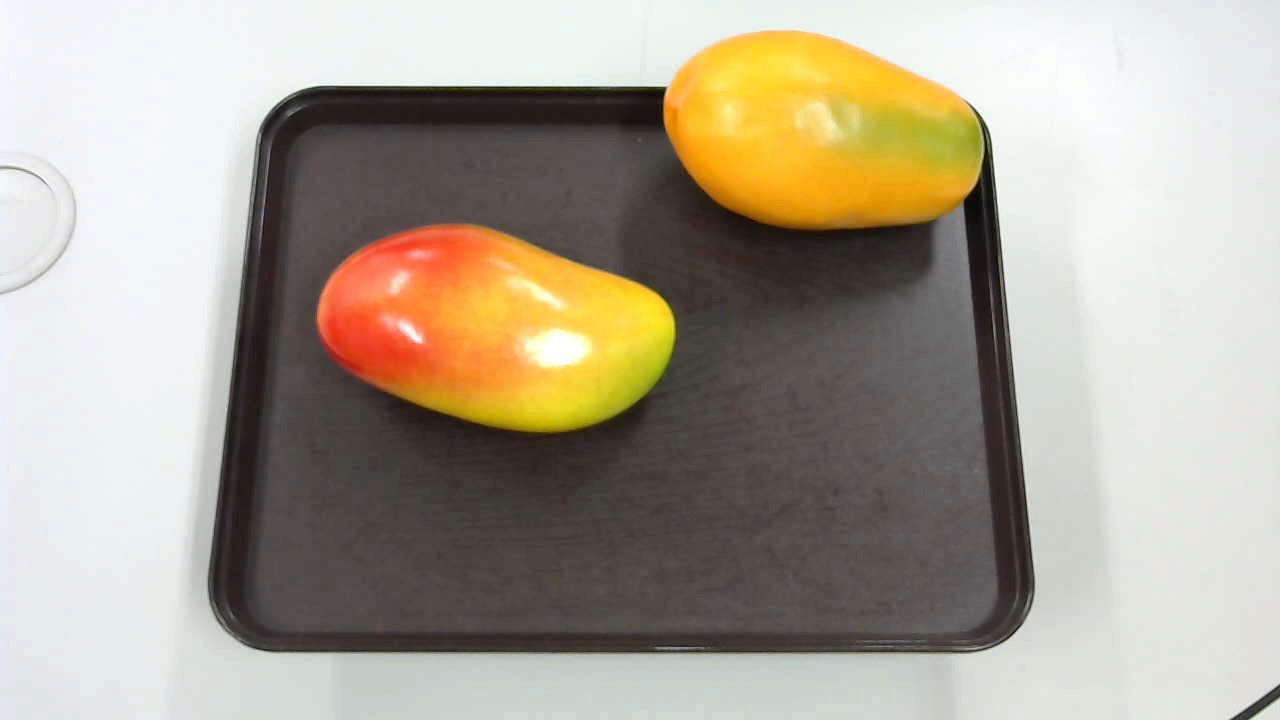papya: (661, 23, 986, 232)
red mango: (305, 220, 673, 441)
